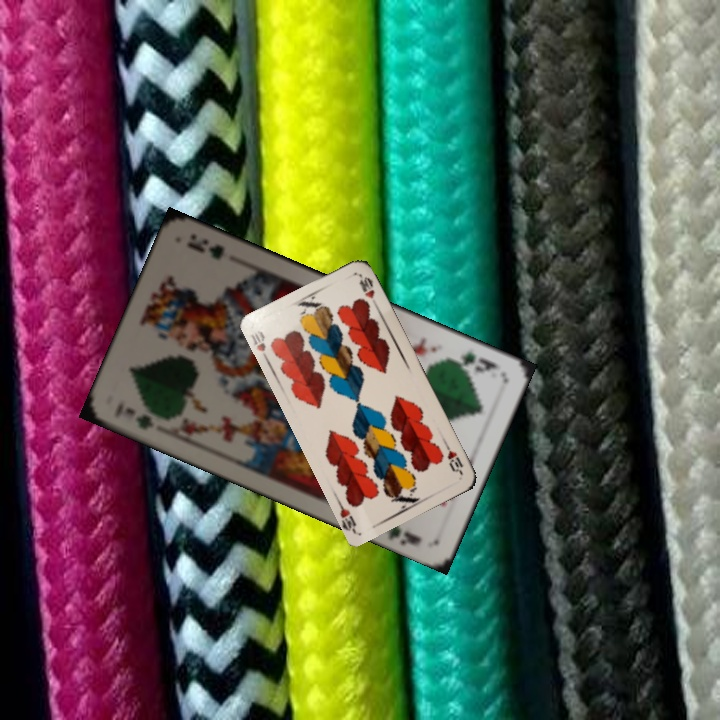GK: (446, 347, 501, 376), (122, 403, 156, 433)
H10: (247, 326, 272, 364), (441, 440, 466, 477)
